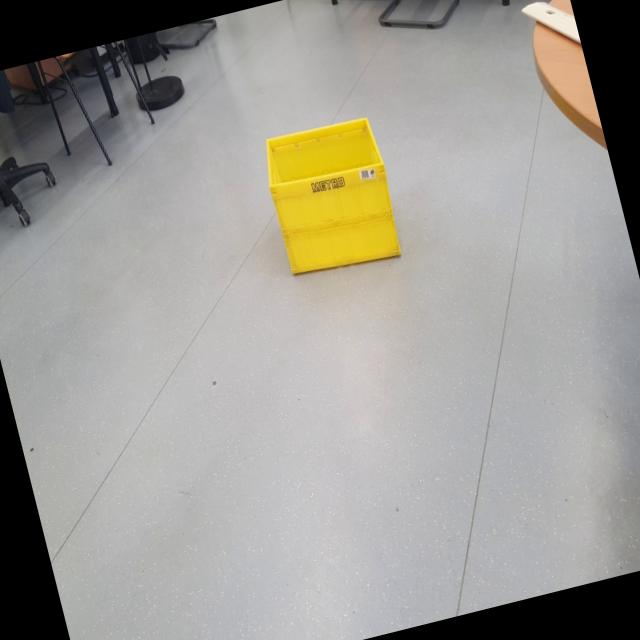box: (248, 110, 412, 304)
